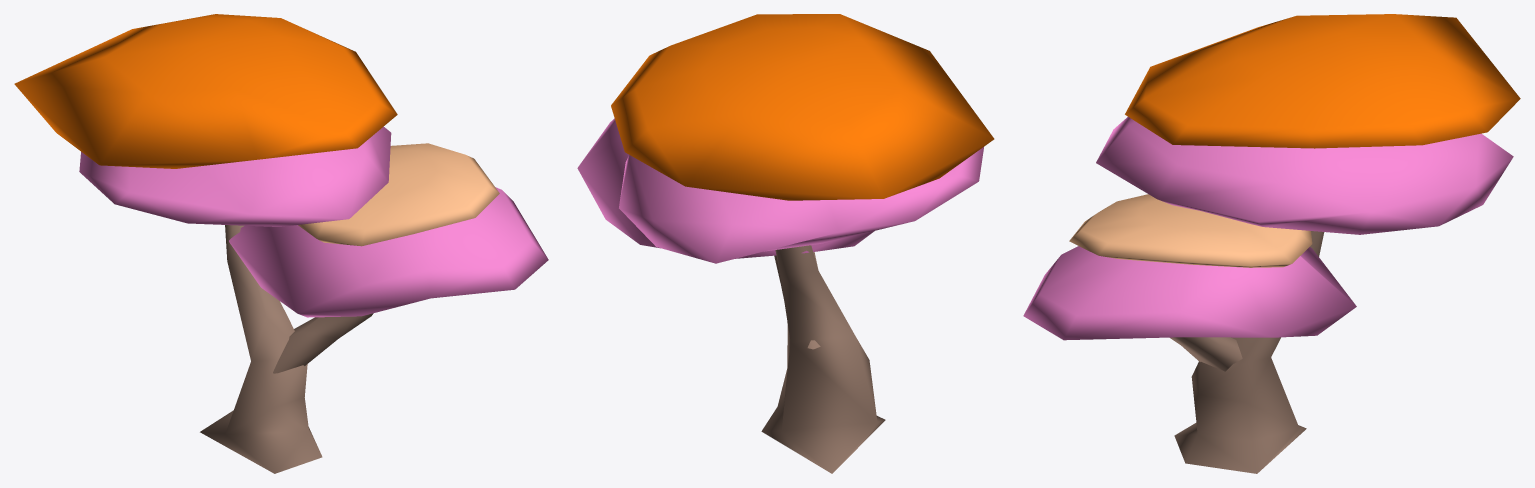
The model's file is C_Mushroom_2.fbx.
The picture shows the model from 3 angles, left to right: view 1: azimuth 30°, elevation 25°; view 2: azimuth 150°, elevation 25°; view 3: azimuth 270°, elevation 25°; orthographic projection. The views are drawn at different scales.
Visible parts, largest first — view 1: tree_3.003; view 2: tree_3.003; view 3: tree_3.003.
Boxes of the visible parts, x1,y1,x2,y2 form: tree_3.003: (14,14,548,473); tree_3.003: (577,14,994,473); tree_3.003: (1023,14,1520,473).
Size of the model in its own units: 70.75 by 66.63 by 74.75.
